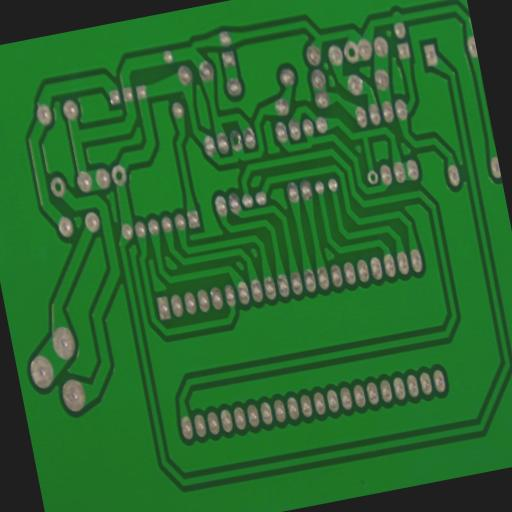missing_hole: (48, 176, 66, 198), (228, 130, 244, 150), (112, 166, 127, 186), (344, 42, 358, 62), (366, 168, 380, 186)
